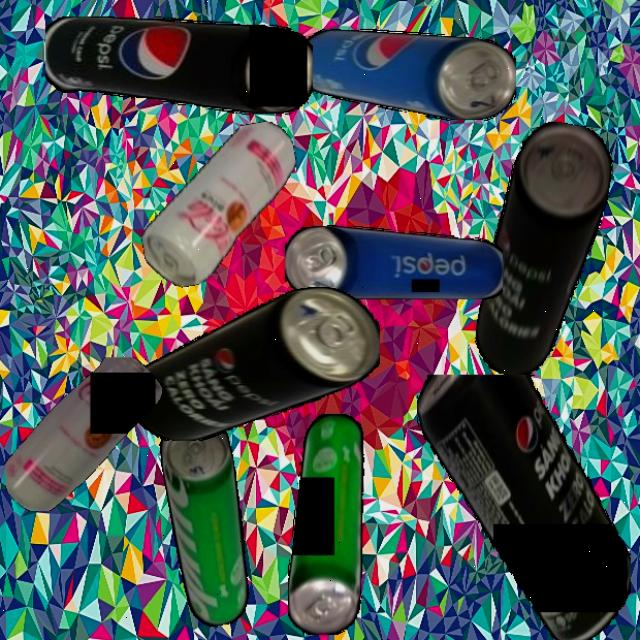debris: (416, 373, 630, 640), (470, 115, 618, 386), (129, 287, 380, 441), (126, 118, 314, 292), (44, 16, 313, 114), (4, 356, 162, 511), (155, 413, 261, 630), (296, 29, 516, 121), (287, 413, 365, 635), (285, 224, 503, 299)
